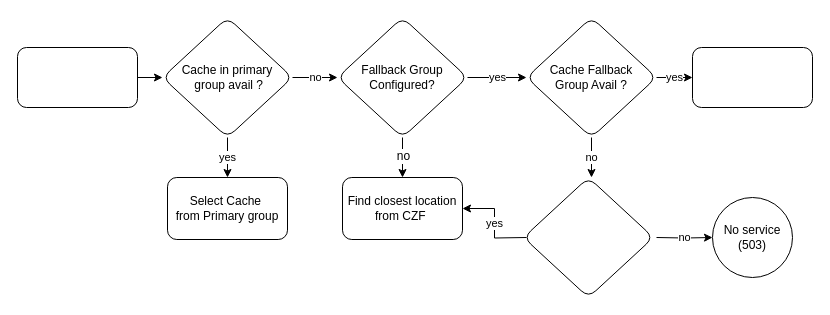
The diagram is 830 pixels wide and 315 high, and some of its shapes have lost their labels. Here are the shapes that lost their labels. From the top down, the centre of each, then its label:
(x=77, y=77): Find Primary Group from CZF
(x=752, y=77): Select cache from fallback group
(x=588, y=237): ClosestGeo=true?
